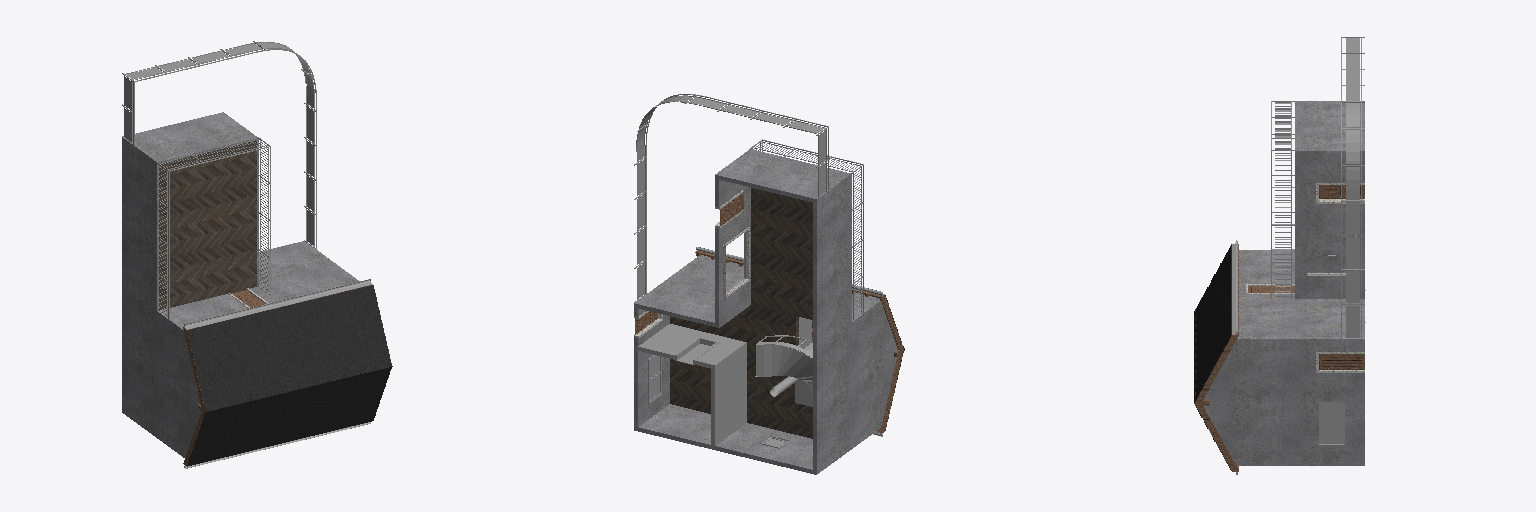
3 views of the same model, side by side, from view 1: azimuth 30°, elevation 25°; view 2: azimuth 150°, elevation 25°; view 3: azimuth 270°, elevation 25° (orthographic).
Visible parts, largest first — view 1: Window.001; view 2: Window.001; view 3: Window.001.
Boxes of the visible parts, box(x1,y1,x2,y2) form: Window.001: box(122, 41, 392, 468); Window.001: box(634, 94, 904, 474); Window.001: box(1194, 37, 1365, 474).
Bounding box in the file's own units: 9.25 × 16.43 × 7.37.
Materials: 41 (5 with a texture image).